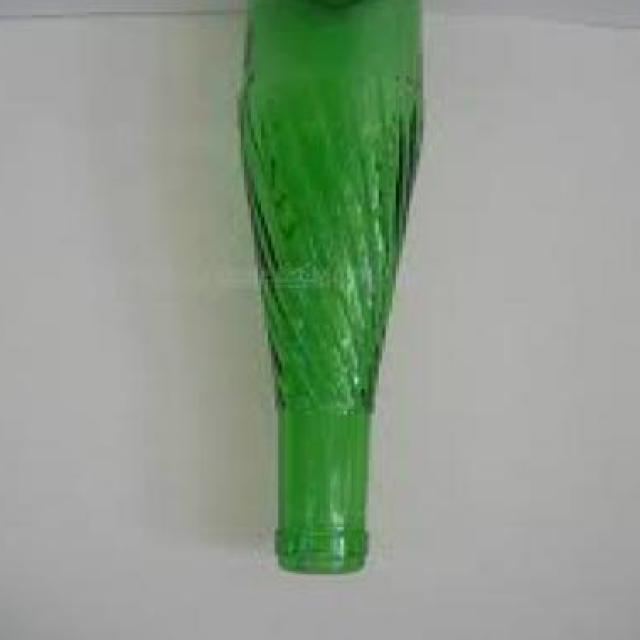kaca: (230, 0, 424, 578)
